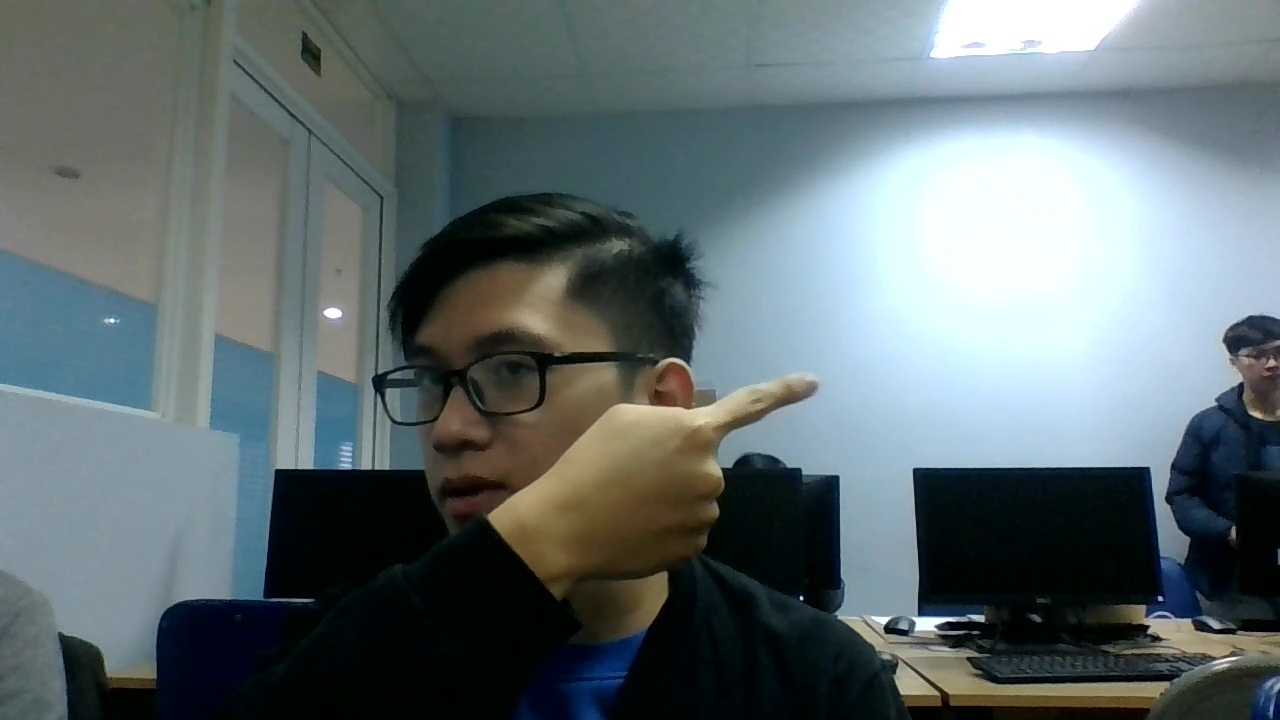left: (531, 354, 832, 579)
